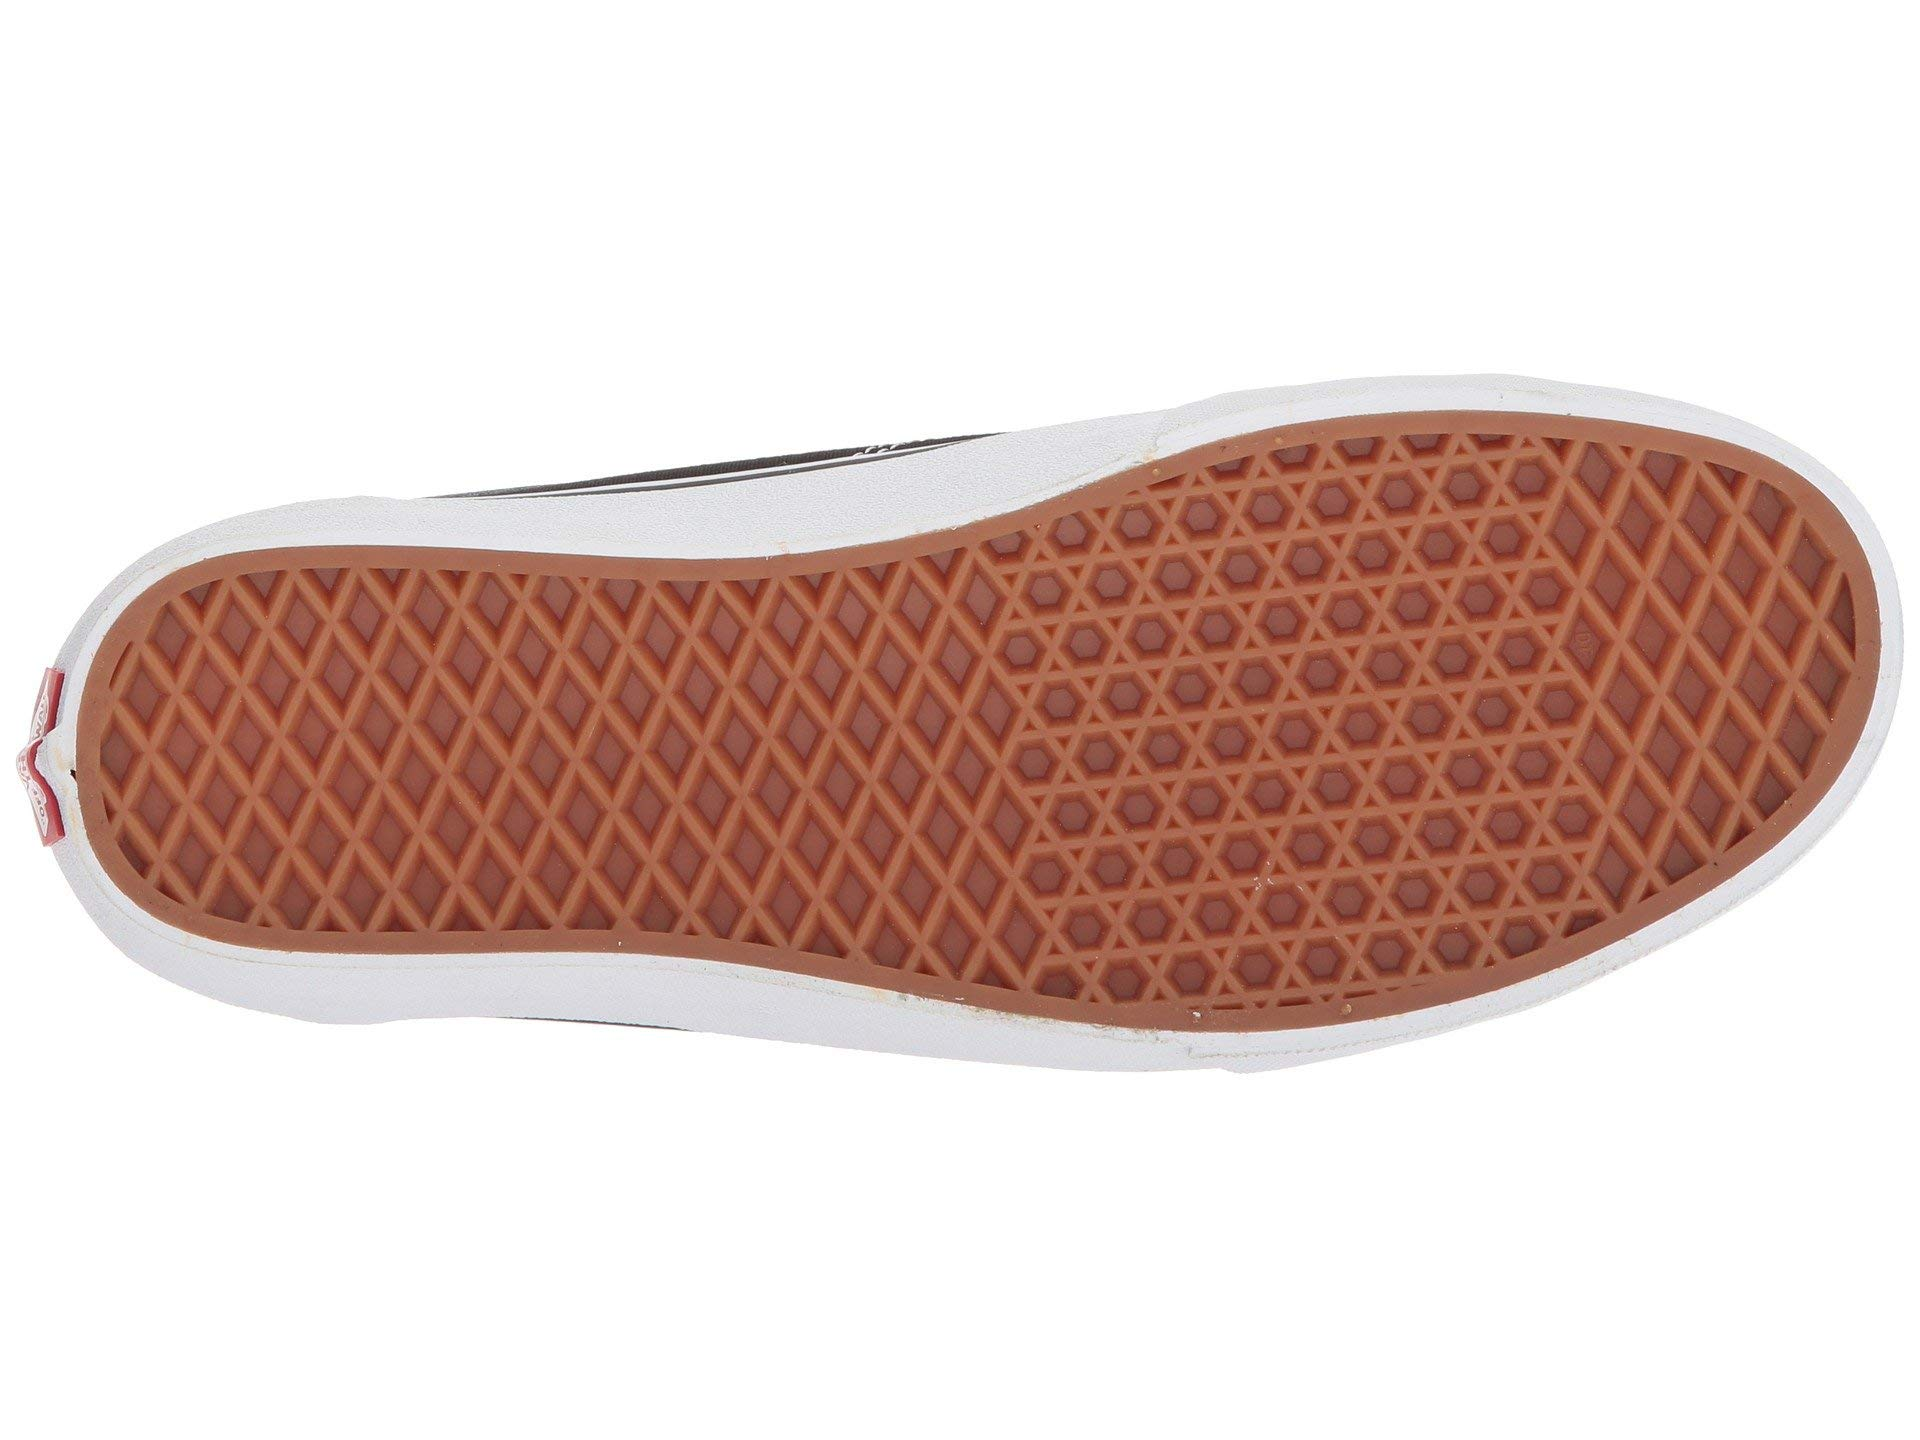polygon: (1107, 560, 1426, 885)
quad: (565, 611, 893, 914)
star: (1107, 560, 1426, 885)
triangle: (1107, 560, 1426, 885)
